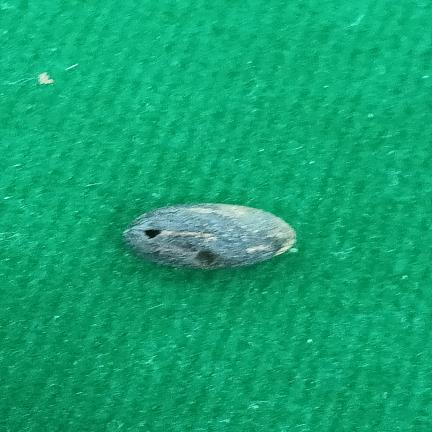partial-black: (123, 203, 296, 270)
